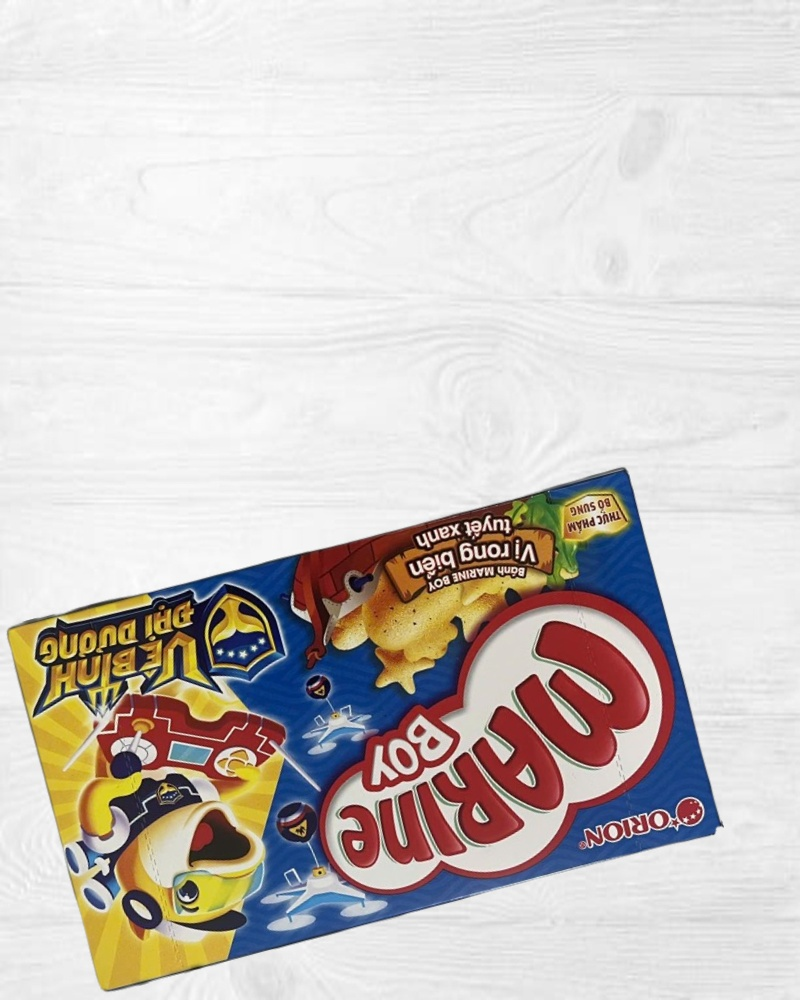Marine: (3, 462, 725, 998)
